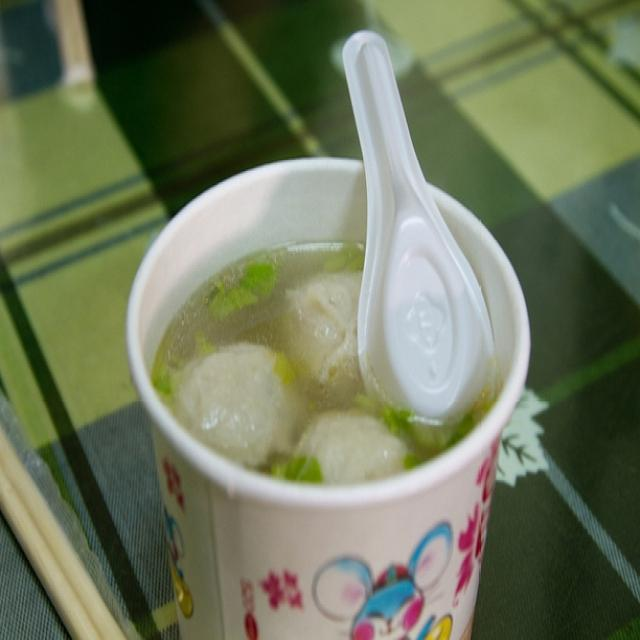熟制海鲜: (119, 154, 542, 522)
